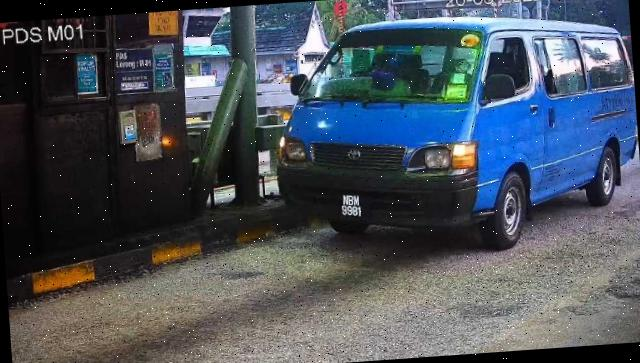License_Plate: (333, 189, 369, 224)
van: (268, 4, 640, 267)
